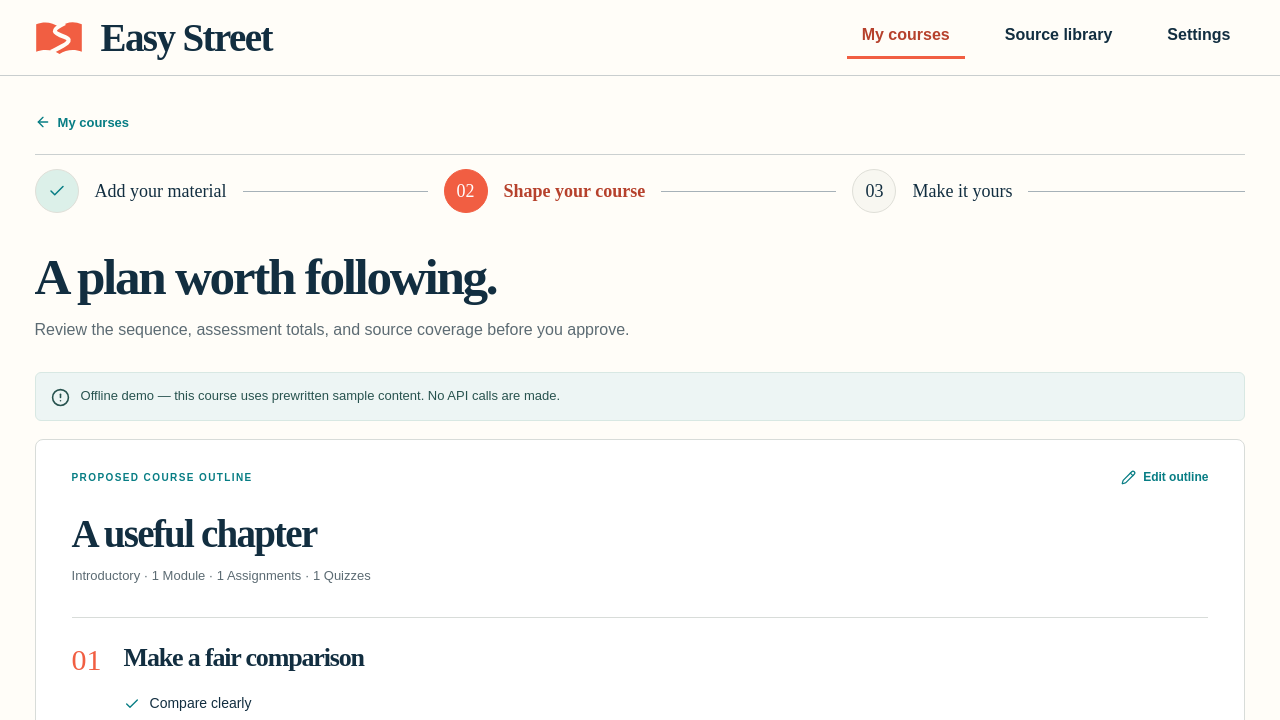
Test case: course review safeguards › prevents navigation from silently discarding outline edits
Click the button "Edit outline" at (1165, 477), box [1121,470,1208,485]
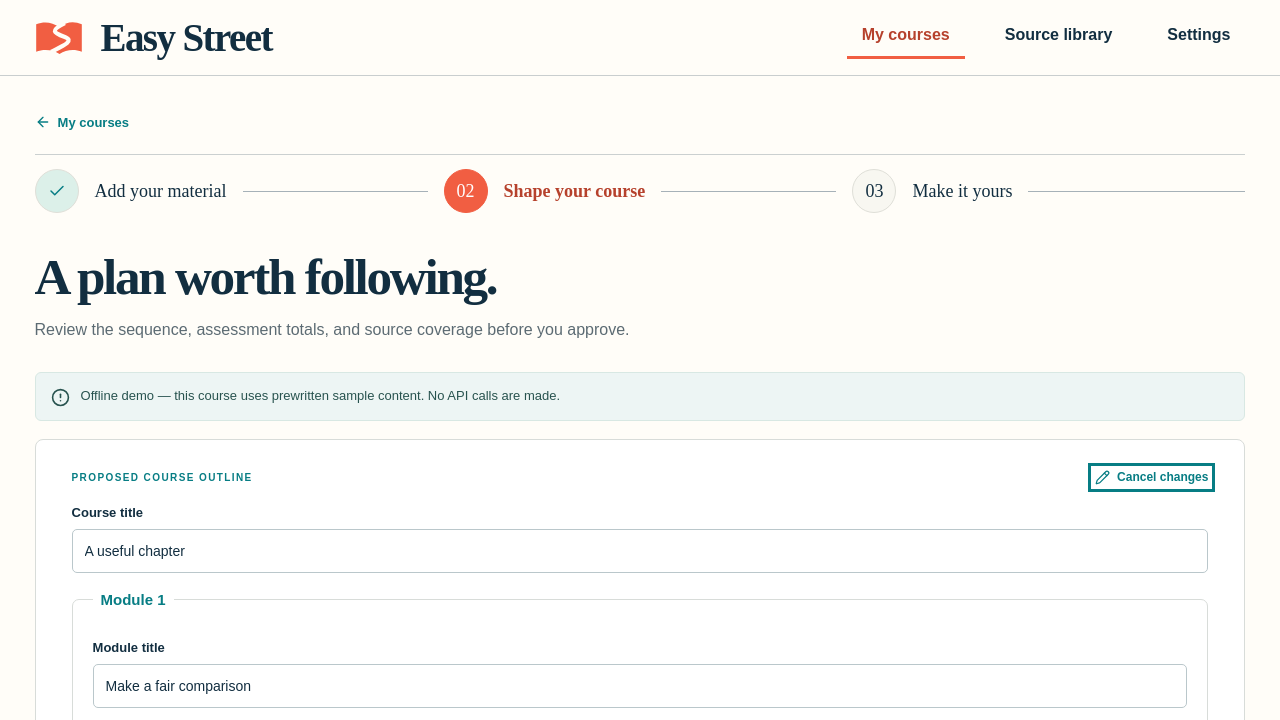
Replace the text in the field labelled "Course title" with "Keep this outline draft" at (640, 551), box [72,529,1208,573]
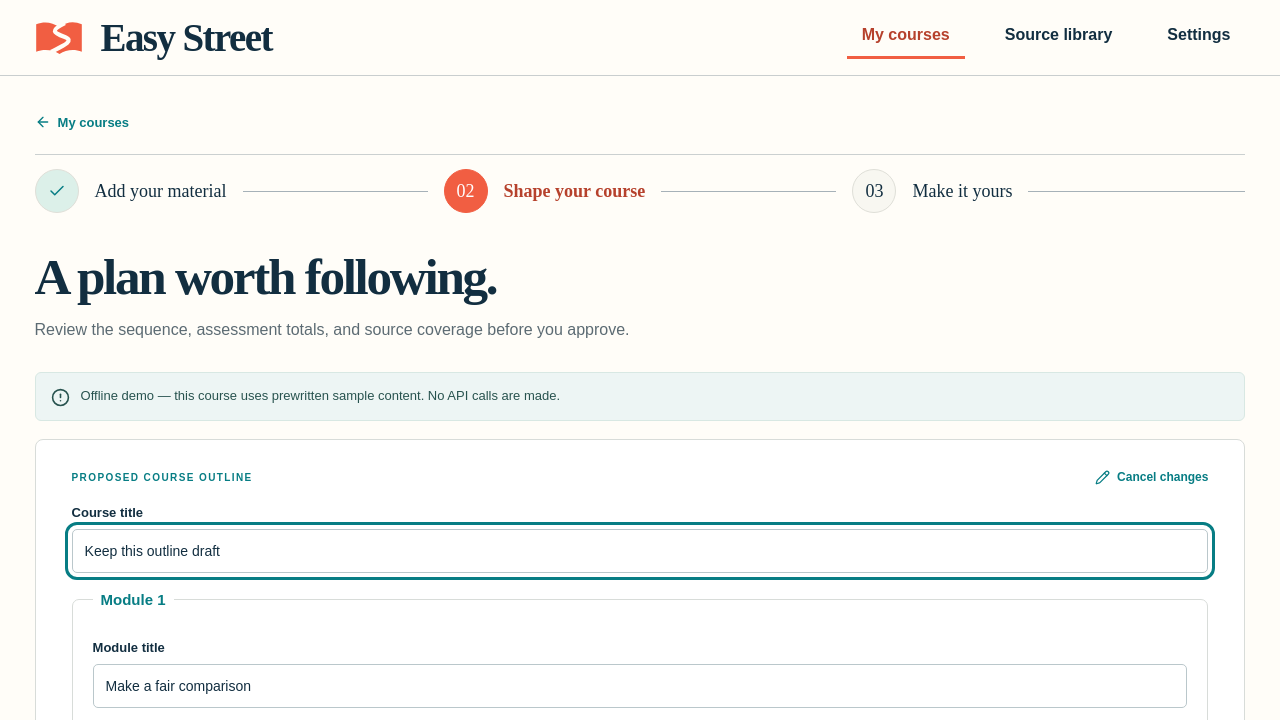
Click the button "Source library" at (1058, 38), box [990,16,1127,59]
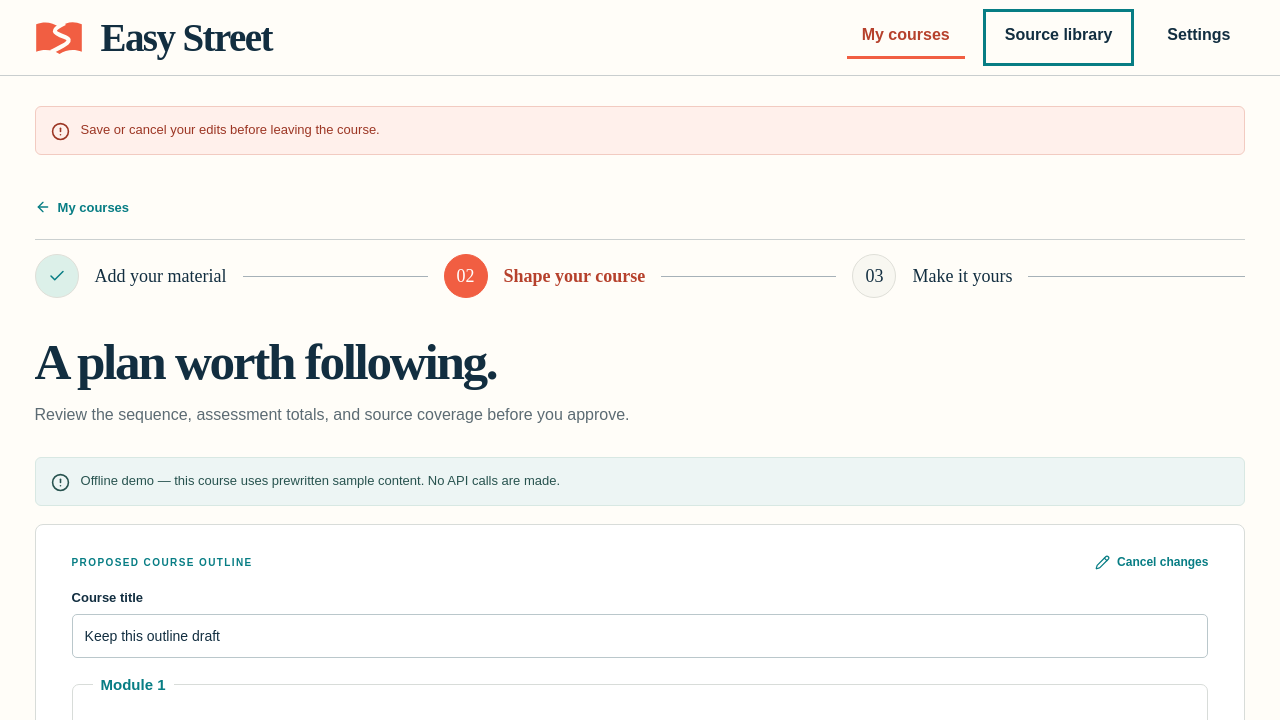
expect the message shows "Save or cancel": met, box [80,122,380,137]
